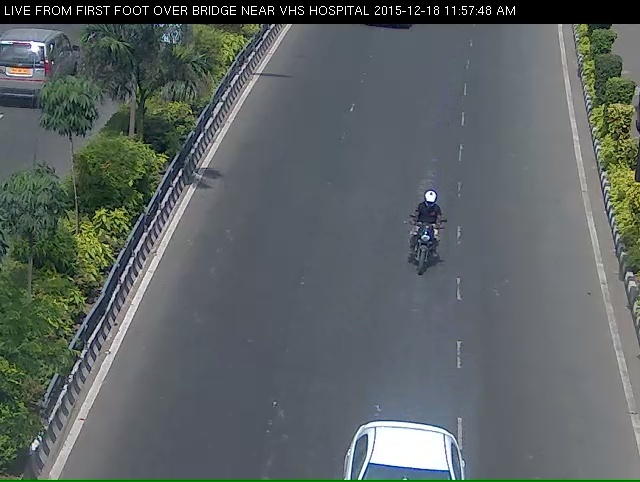Person: (409, 205, 439, 309)
